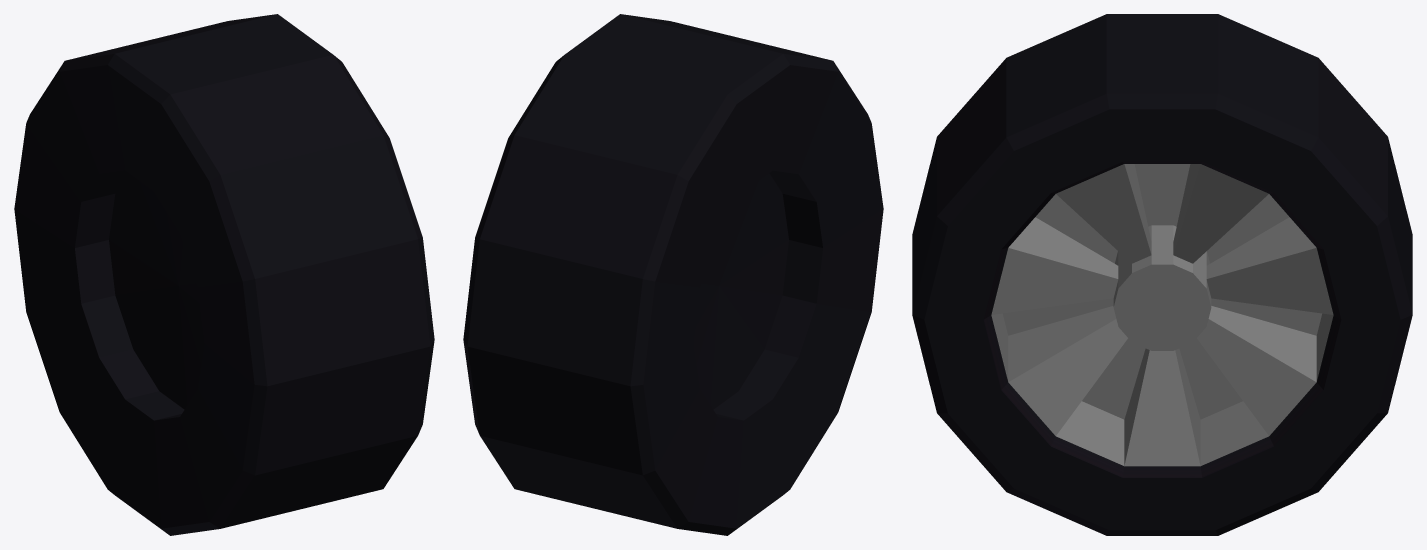
File: Wheel.fbx
3 renders of one model, left to right at view 1: azimuth 30°, elevation 25°; view 2: azimuth 150°, elevation 25°; view 3: azimuth 270°, elevation 25°, orthographic.
Parts seen in each view (by area): view 1: Wheel; view 2: Wheel; view 3: Wheel.
Boxes of the visible parts, x1,y1,x2,y2 form: Wheel: (14,14,434,535); Wheel: (463,14,883,535); Wheel: (912,14,1412,535).
Size of the model in its own units: 0.2444 by 0.5686 by 0.5832.
